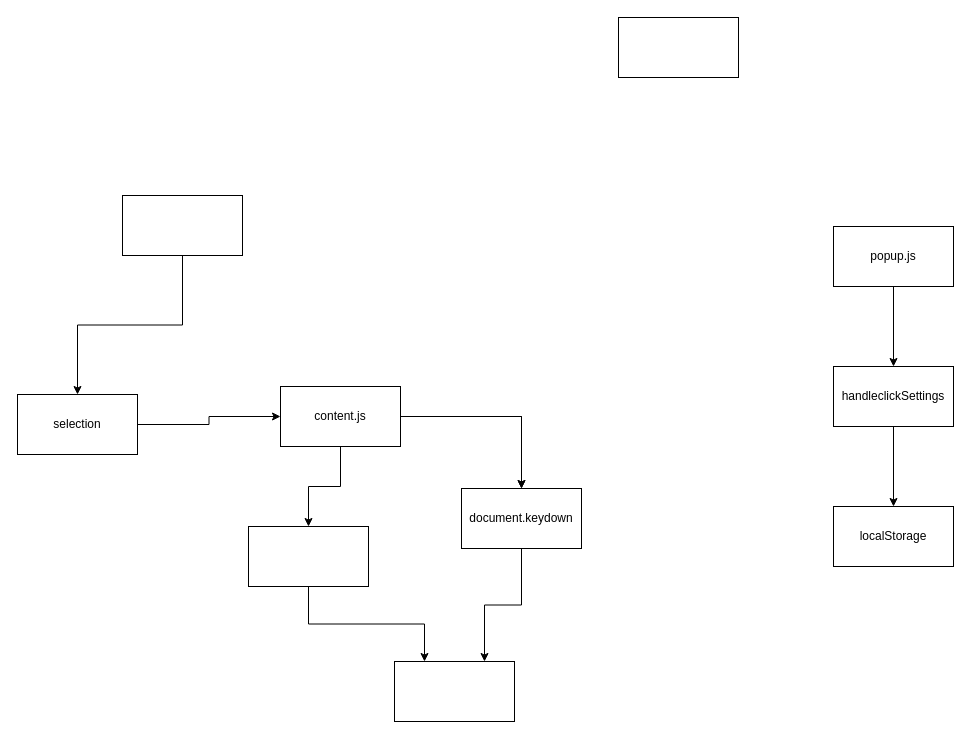
Some shapes in this 971 by 739 pixel diagram are drawn without their labels. The shapes that lost their labels are listed below. From the top down, each one's centre as x and y in pixels, then its label:
[182,225]: usuario
[308,556]: custom menu on text selection
[454,691]: handleSpeech
